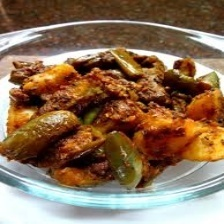sabzi: (0, 43, 224, 195)
